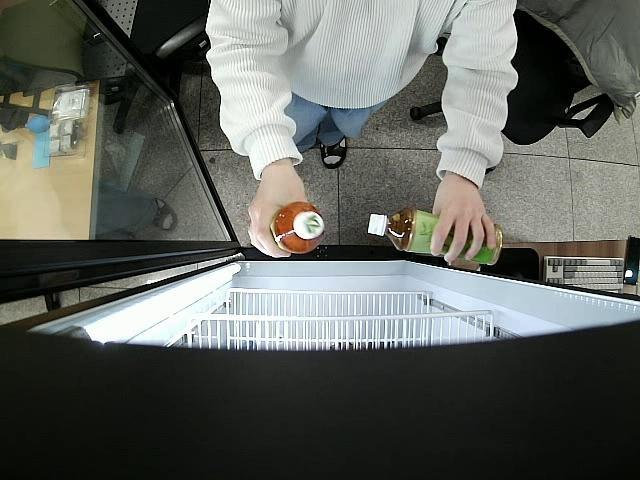19_17cha: (366, 204, 504, 268), (272, 202, 326, 256)
